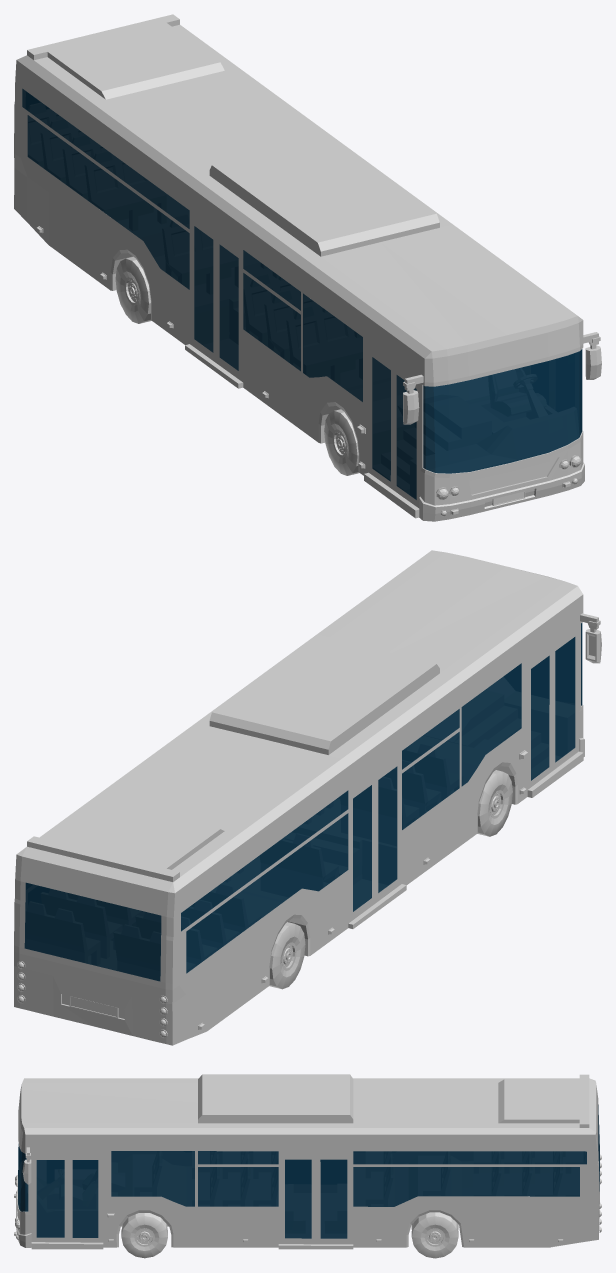
File: bus_fixed_doors_seperate_wheels.fbx
3 renders of one model, top to bottom at view 1: azimuth 30°, elevation 25°; view 2: azimuth 150°, elevation 25°; view 3: azimuth 270°, elevation 25°, orthographic. The views are drawn at different scales.
Visible parts, largest first — view 1: bus.001, bus_glass.001, bus_wheel.008, bus_wheel.014; view 2: bus.001, bus_glass.001, bus_wheel.008, bus_wheel.014; view 3: bus.001, bus_glass.001, bus_wheel.013, bus_wheel.012.
Boxes of the visible parts, box(x1,y1,x2,y2) form: bus.001: box(14, 14, 601, 521); bus_glass.001: box(22, 88, 582, 499); bus_wheel.008: box(115, 256, 151, 323); bus_wheel.014: box(324, 409, 359, 475); bus.001: box(14, 550, 601, 1045); bus_glass.001: box(24, 623, 582, 981); bus_wheel.008: box(269, 922, 305, 989); bus_wheel.014: box(477, 770, 512, 836); bus.001: box(14, 1074, 601, 1249); bus_glass.001: box(18, 1105, 599, 1238); bus_wheel.013: box(411, 1212, 458, 1258); bus_wheel.012: box(121, 1213, 167, 1258).
Size of the model in its own units: 487 by 465 by 1806.
